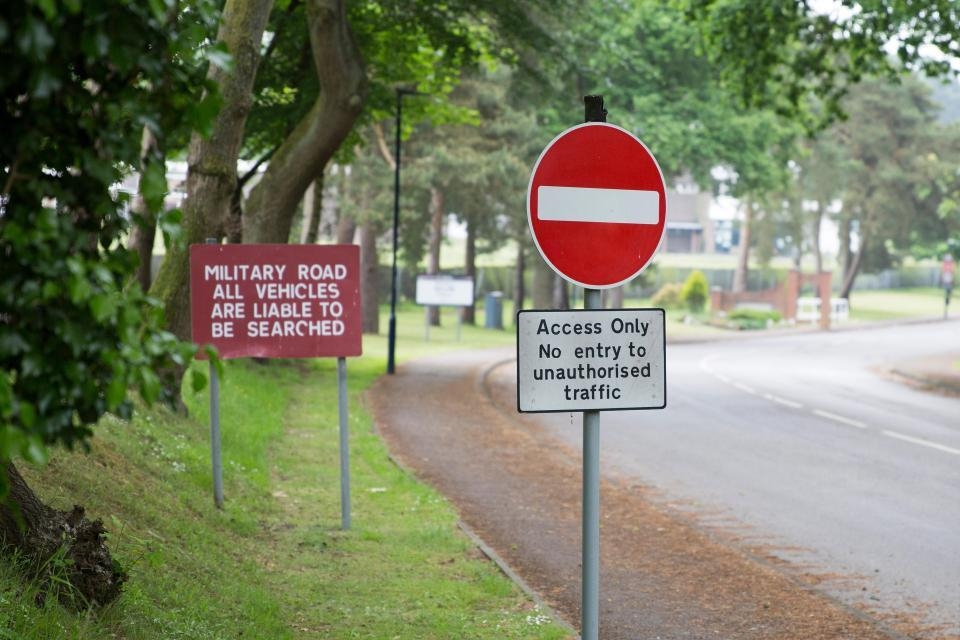No_entry: (526, 120, 668, 289)
